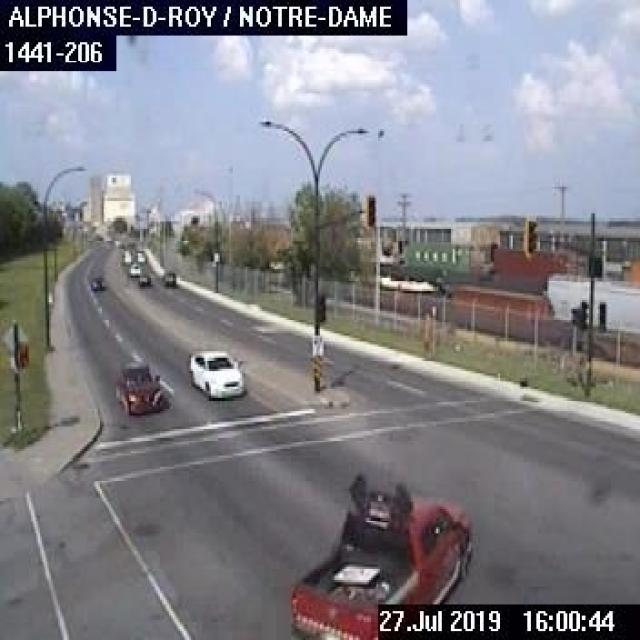vehicle: (284, 469, 476, 638), (113, 358, 165, 412), (186, 349, 244, 397), (85, 273, 102, 289), (135, 270, 150, 286), (160, 270, 176, 284), (120, 250, 132, 264), (127, 262, 139, 276), (134, 252, 146, 260)
